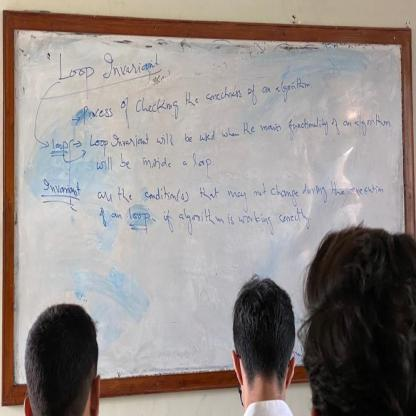Handwritten text: (77, 65, 318, 132), (86, 103, 394, 154), (90, 171, 389, 204), (46, 28, 172, 99), (95, 203, 316, 238), (94, 148, 217, 178)
Whiteboard: (13, 19, 411, 385)
